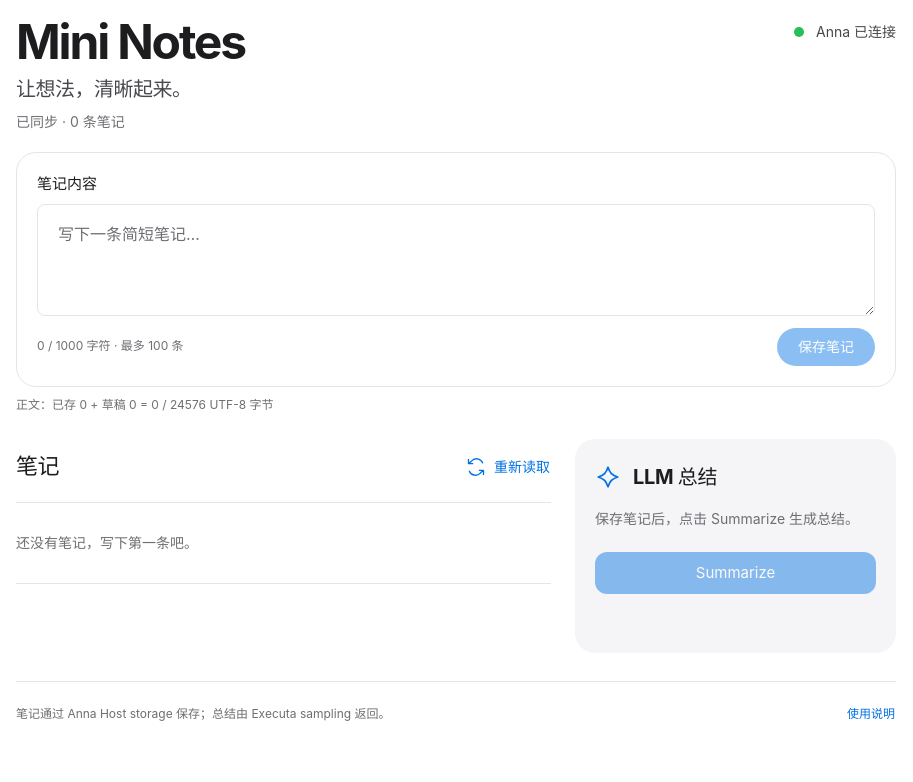
Host session loss in the app › retains an incoming handoff during an unknown mutation without acknowledging or allowing recovery
Expected: the text "Anna 已连接" is shown, top-left (794, 16), bottom-right (896, 42)
Type "uncertain draft" into the text box. click: coordinates (456, 260)
box: top-left (37, 204), bottom-right (875, 316)
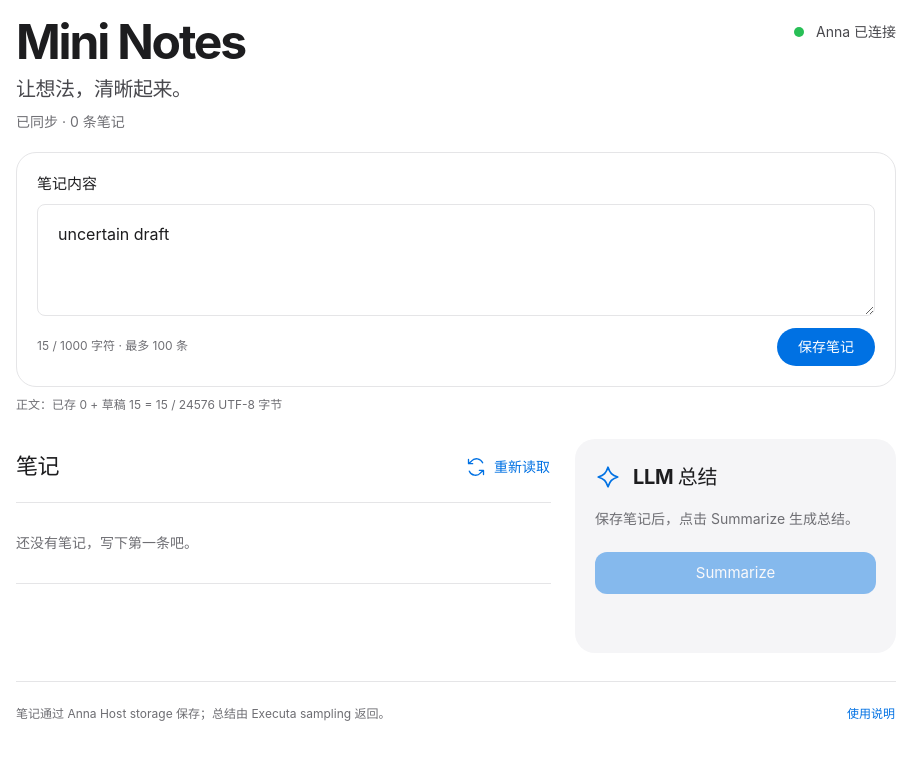
Click the button "保存笔记". click: coordinates (826, 347)
box: top-left (777, 328), bottom-right (875, 366)
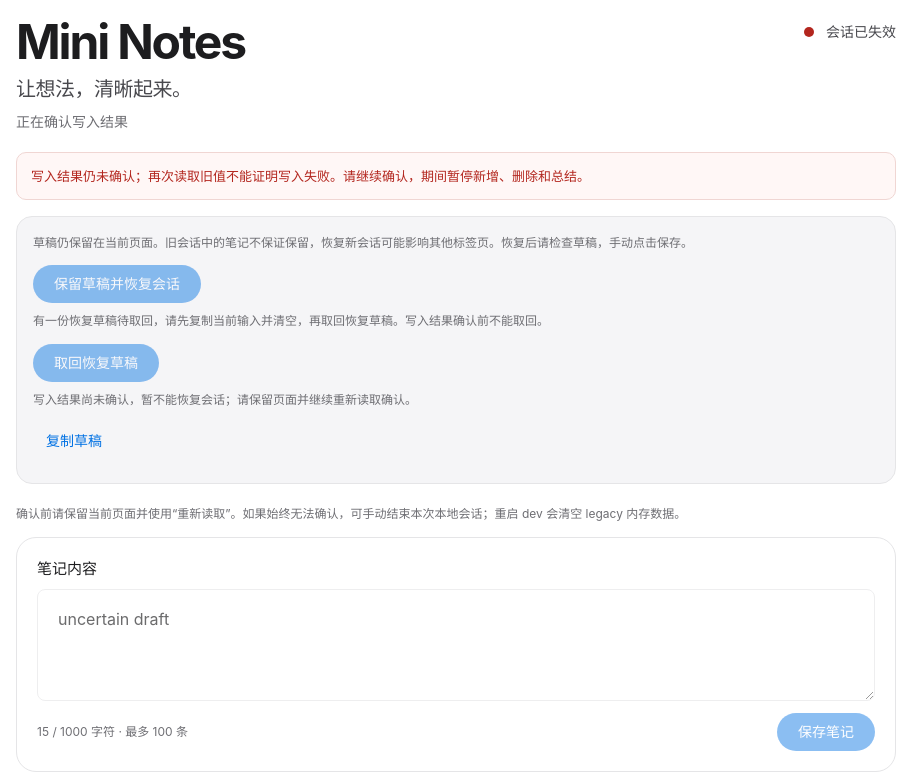
Expected: the text "会话已失效" is shown, top-left (804, 16), bottom-right (896, 42)
Expected: the text "有一份恢复草稿待取回，请先复制当前输入并清空，再取回恢复草稿。写入结果确认前不能取回。" is shown, top-left (33, 313), bottom-right (549, 328)
Expected: the button "取回恢复草稿" is disabled, top-left (33, 344), bottom-right (159, 382)
